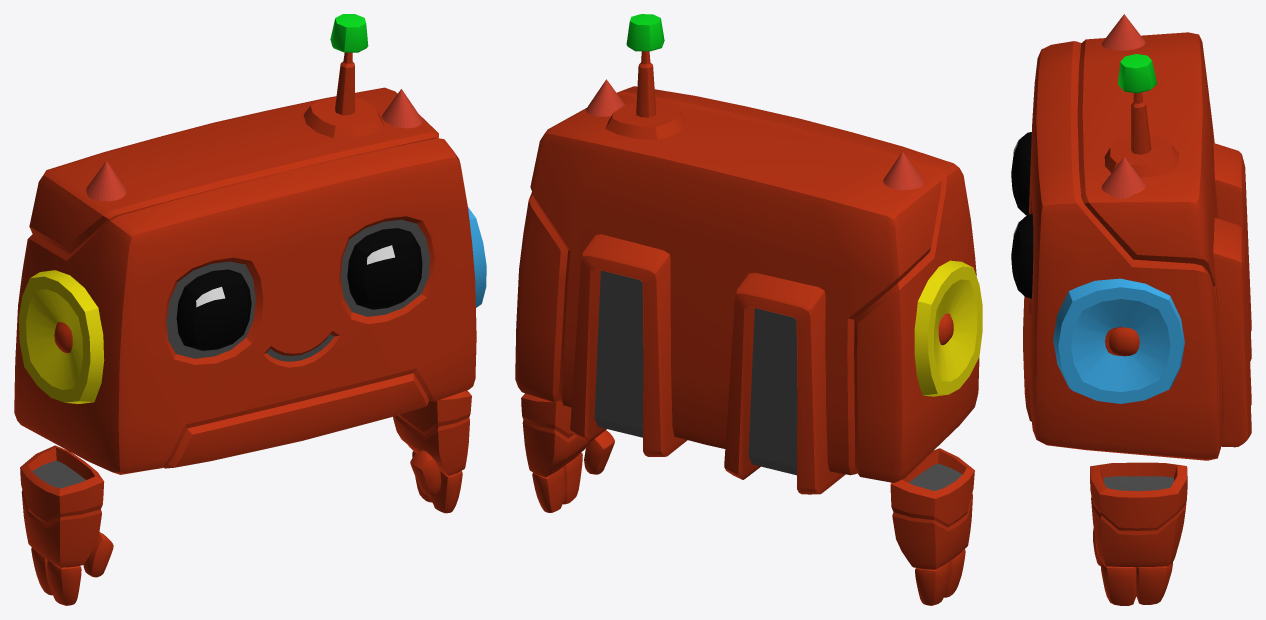
Rendered from robot.glb.
3 views of the same model, side by side, from view 1: azimuth 30°, elevation 25°; view 2: azimuth 150°, elevation 25°; view 3: azimuth 270°, elevation 25° (orthographic).
Visible parts, largest first — view 1: Object_21.145, Object_21.248, Object_21.247, Object_21.121, Object_21.081, Object_21.146, Object_21.130, Object_22, Object_21.171, Object_21.153, Cone.001, Object_21.134 (+15 smaller); view 2: Object_21.151, Object_21.248, Object_22, Object_21.247, Object_21.170, Object_21.081, Object_21.150, Object_21.233, Object_21.240, Object_21.146, Object_21.238, Object_21.242 (+22 smaller); view 3: Object_21.249, Object_21.248, Object_21.080, Object_21.146, Object_21.154, Object_21.246, Object_21.151, Object_21.121, Object_21.145, Object_21.185, Object_21.192, Cone.001 (+24 smaller).
Part boxes in pixels (<box>): Object_21.145: <box>118,157,476,473</box>; Object_21.248: <box>43,87,438,215</box>; Object_21.247: <box>14,221,131,472</box>; Object_21.121: <box>176,228,422,350</box>; Object_21.081: <box>18,270,104,403</box>; Object_21.146: <box>110,138,456,236</box>; Object_21.130: <box>175,380,426,467</box>; Object_22: <box>32,219,429,488</box>; Object_21.171: <box>29,175,102,246</box>; Object_21.153: <box>103,132,438,218</box>; Cone.001: <box>86,89,423,201</box>; Object_21.134: <box>187,373,413,434</box>; Object_21.151: <box>530,133,898,475</box>; Object_21.248: <box>544,95,941,219</box>; Object_22: <box>594,270,962,490</box>; Object_21.247: <box>899,168,979,479</box>; Object_21.170: <box>857,290,902,482</box>; Object_21.081: <box>914,260,982,396</box>; Object_21.150: <box>515,200,560,401</box>; Object_21.233: <box>724,293,814,489</box>; Object_21.240: <box>570,256,660,451</box>; Object_21.146: <box>620,86,958,176</box>; Object_21.238: <box>809,291,845,494</box>; Object_21.242: <box>655,254,687,456</box>; Object_21.249: <box>1036,203,1216,458</box>; Object_21.248: <box>1082,32,1202,203</box>; Object_21.080: <box>1053,278,1184,403</box>; Object_21.146: <box>1036,41,1076,205</box>; Object_21.154: <box>1089,202,1204,259</box>; Object_21.246: <box>1213,253,1247,447</box>; Object_21.151: <box>1196,35,1223,427</box>; Object_21.121: <box>1011,132,1033,298</box>; Object_21.145: <box>1027,50,1042,440</box>; Object_21.185: <box>1101,518,1176,566</box>; Object_21.192: <box>1099,494,1177,528</box>; Cone.001: <box>1101,14,1145,198</box>.
Size of the model in its own units: 32.6 by 37.45 by 16.24.
